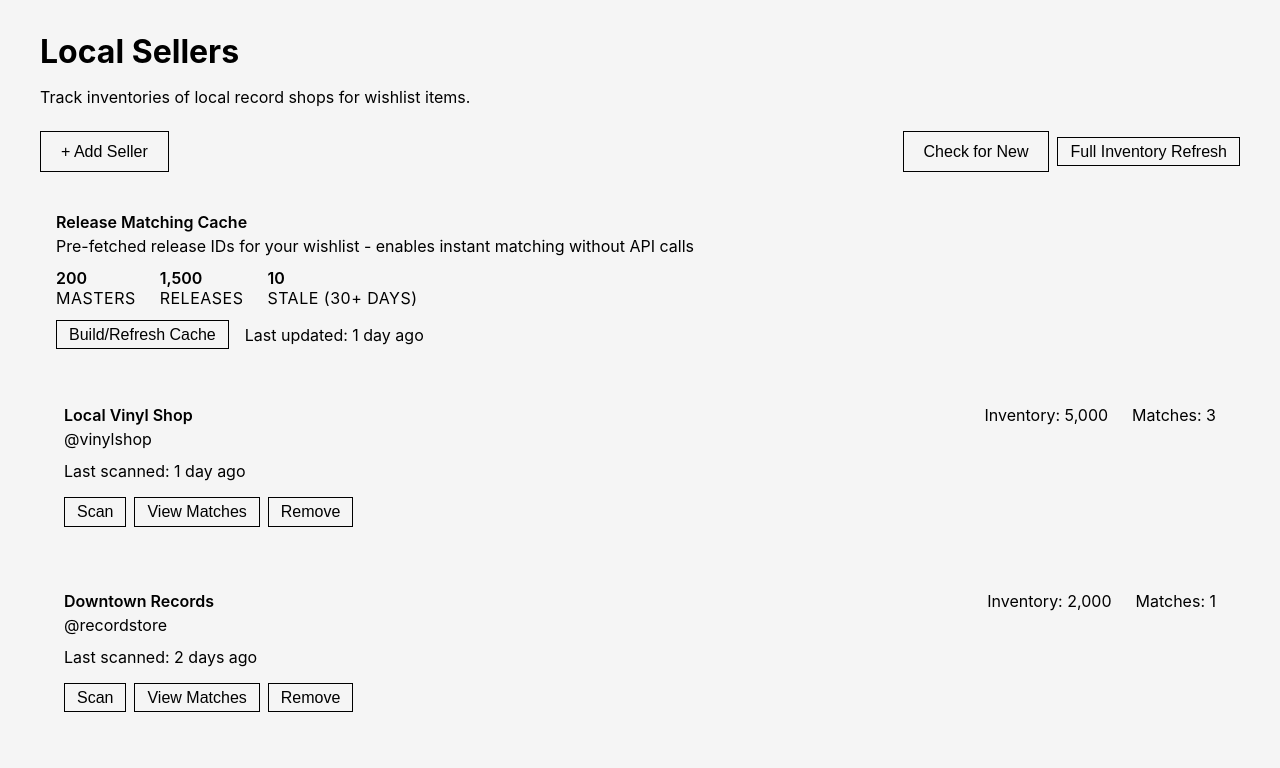
Test case: SellersPage › release cache refresh › shows the server error when a refresh cannot start
Expected: the button "Build/Refresh Cache" is shown, [69, 325, 216, 344]
What coordinates should you click on to do the following:
click the button "Build/Refresh Cache"
I would click on:
 (142, 335)
Its box is [56, 320, 229, 349].
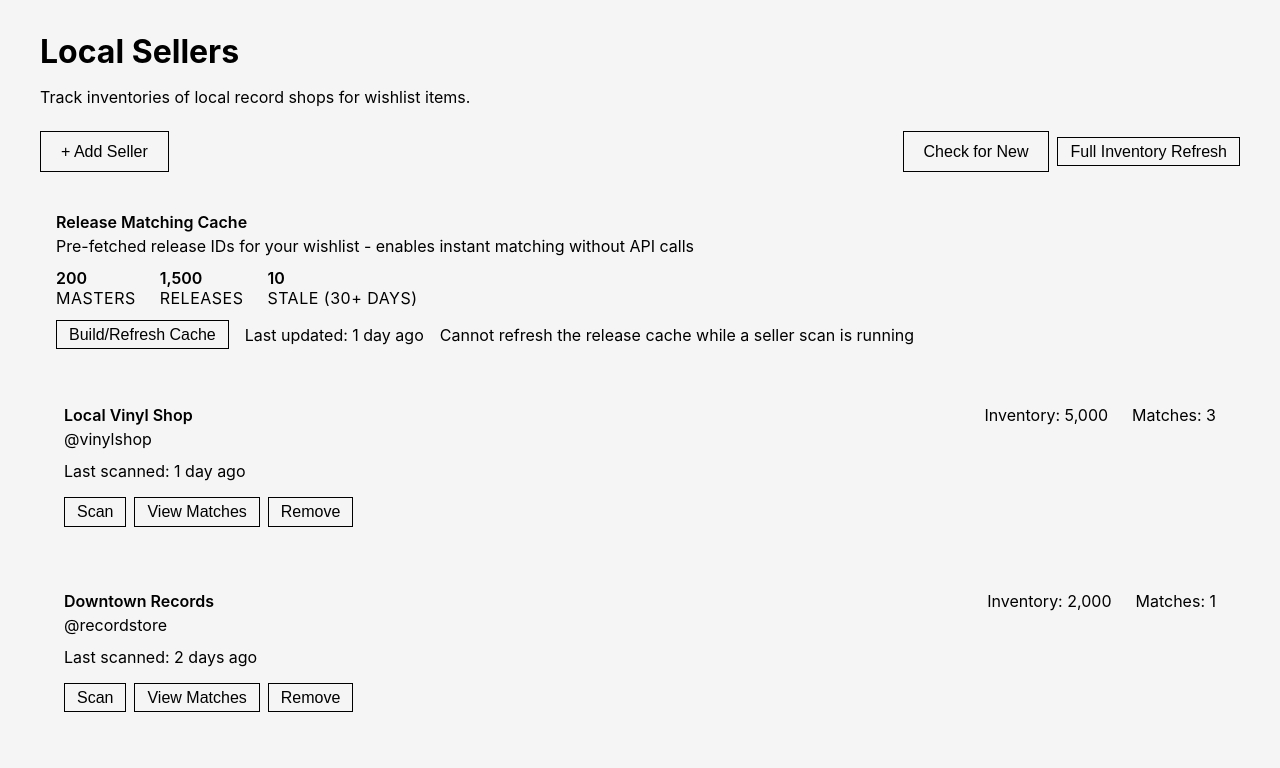
Result: the text "Cannot refresh the release cache while a seller scan is running" is shown at [440, 325, 914, 345]
